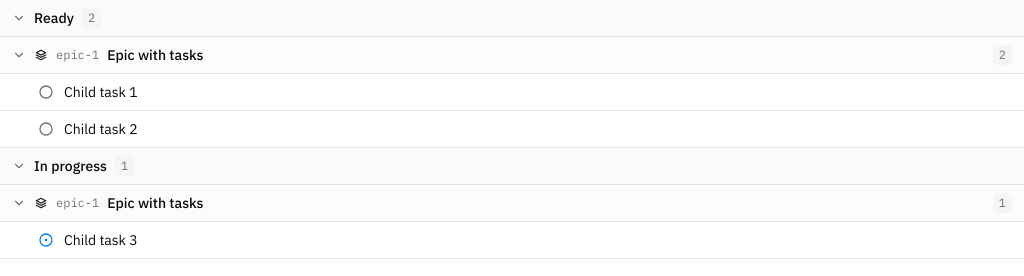
Test: TaskList › epic grouping within status › allows toggling epic sub-group within status
Expected: the text "Child task 1" is shown, [64,83,138,101]
Expected: the text "Child task 2" is shown, [64,120,138,138]
# Click to collapse
Click the button with aria-label "Epic with tasks epic, 2 tasks" at (78, 54), box [0,37,1023,74]
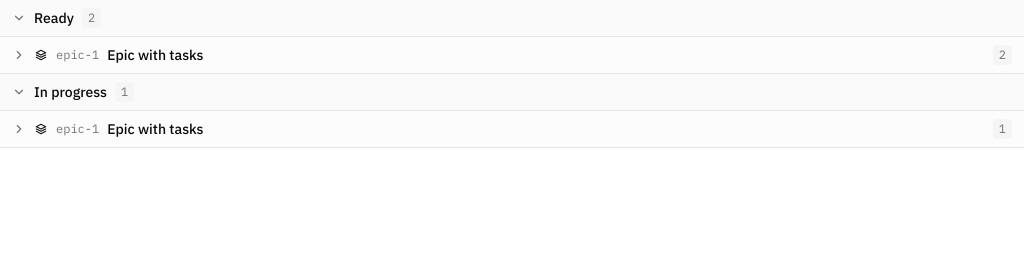
Result: the button "Child task 1" is gone
Result: the button "Child task 2" is gone
# Click to expand
Click the button with aria-label "Epic with tasks epic, 2 tasks" at (78, 54), box [0,37,1023,74]
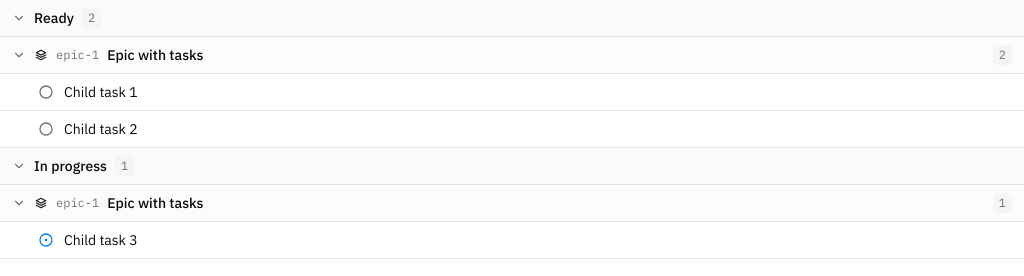
Result: the text "Child task 1" is shown at [64,83,138,101]
